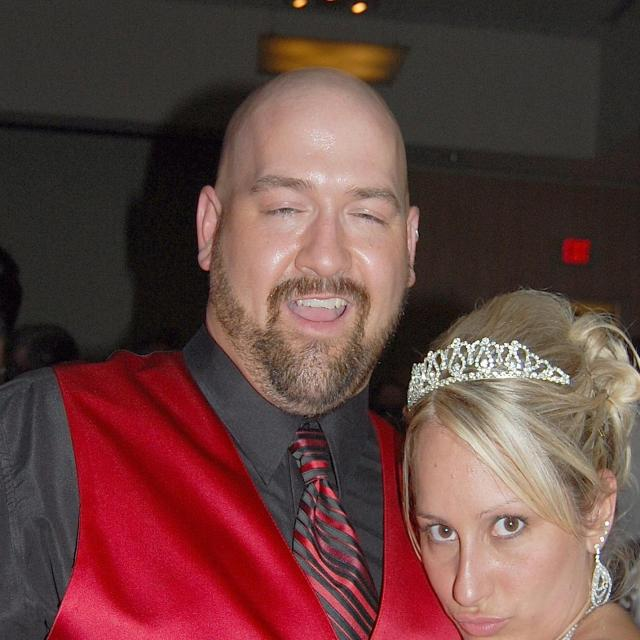no-glass: (258, 197, 388, 234), (422, 504, 536, 546)
